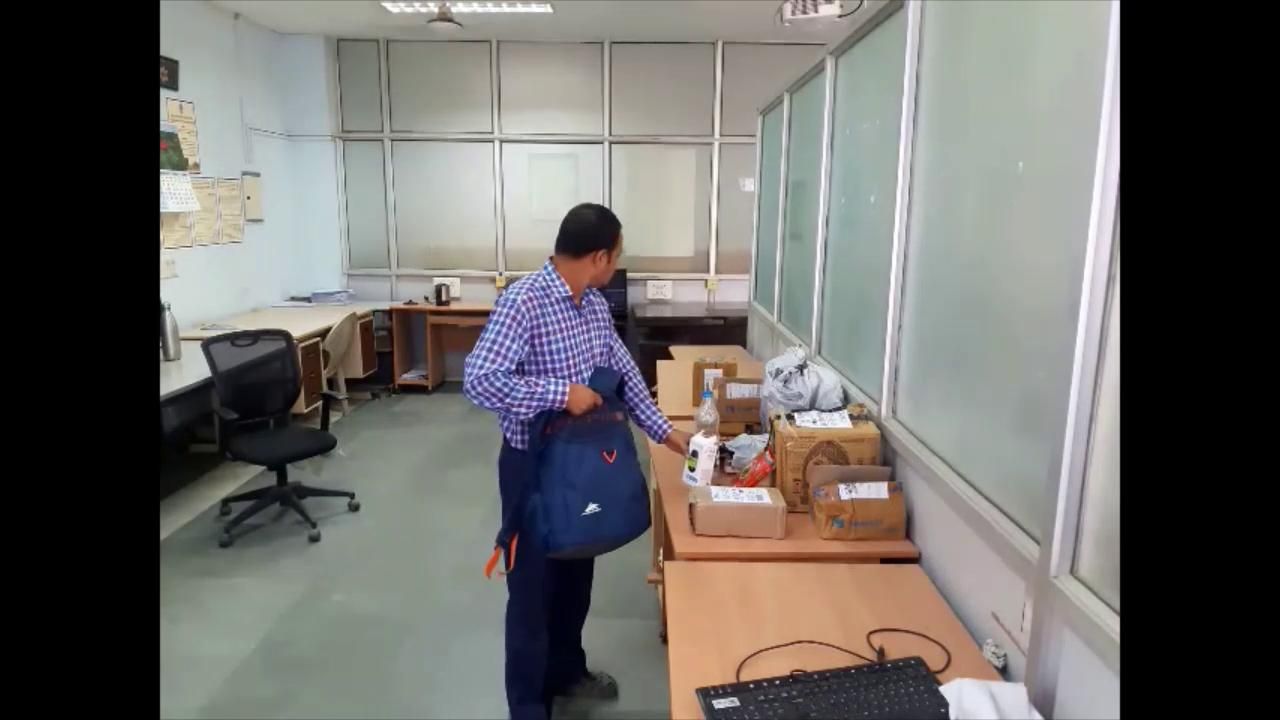shoplifting: (456, 183, 703, 720)
